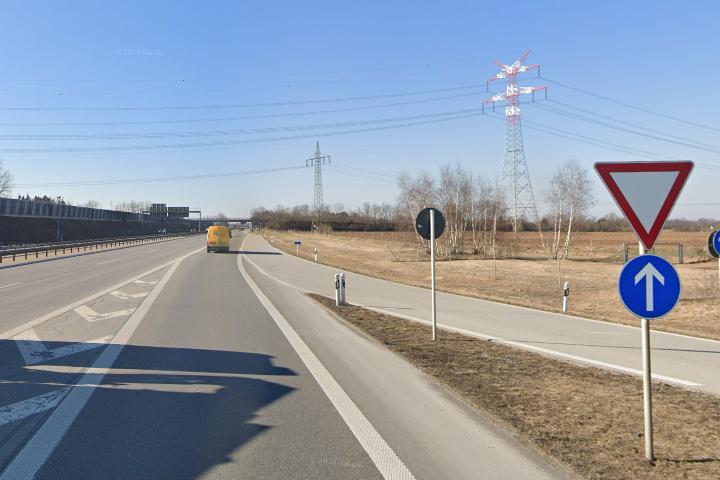traffic_sign: (593, 160, 696, 251), (618, 255, 682, 318)
vehicle: (203, 223, 232, 256)
